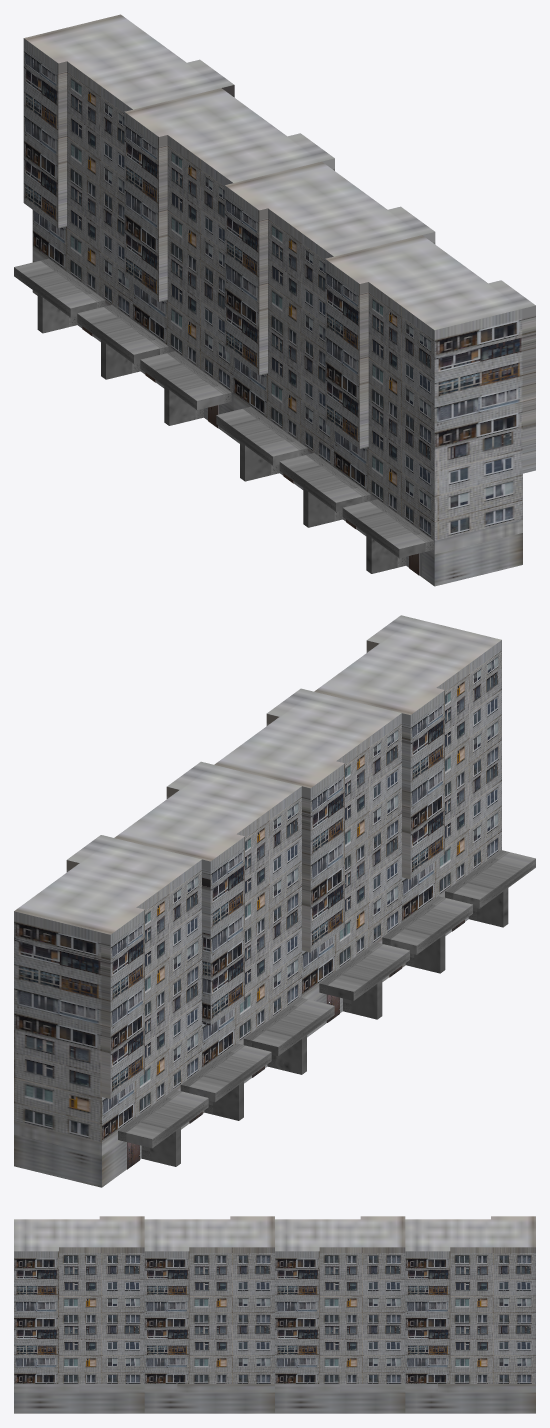
Rendered from brzh.fbx.
The picture shows the model from 3 angles, top to bottom: view 1: azimuth 30°, elevation 25°; view 2: azimuth 150°, elevation 25°; view 3: azimuth 270°, elevation 25°; orthographic projection. The views are drawn at different scales.
Parts seen in each view (by area): view 1: Cube; view 2: Cube; view 3: Cube.
Boxes of the visible parts, x1,y1,x2,y2 form: Cube: [14, 14, 535, 586]; Cube: [14, 615, 535, 1187]; Cube: [14, 1216, 535, 1413].
Bounding box in the file's own units: 3108 × 5591 × 15897.
